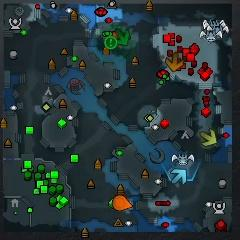Other: (105, 36, 117, 50)
p5: (112, 195, 133, 210)
x2: (200, 129, 217, 147)
x3: (171, 169, 187, 184)
x4: (114, 28, 130, 45)
x5: (166, 53, 183, 71)
